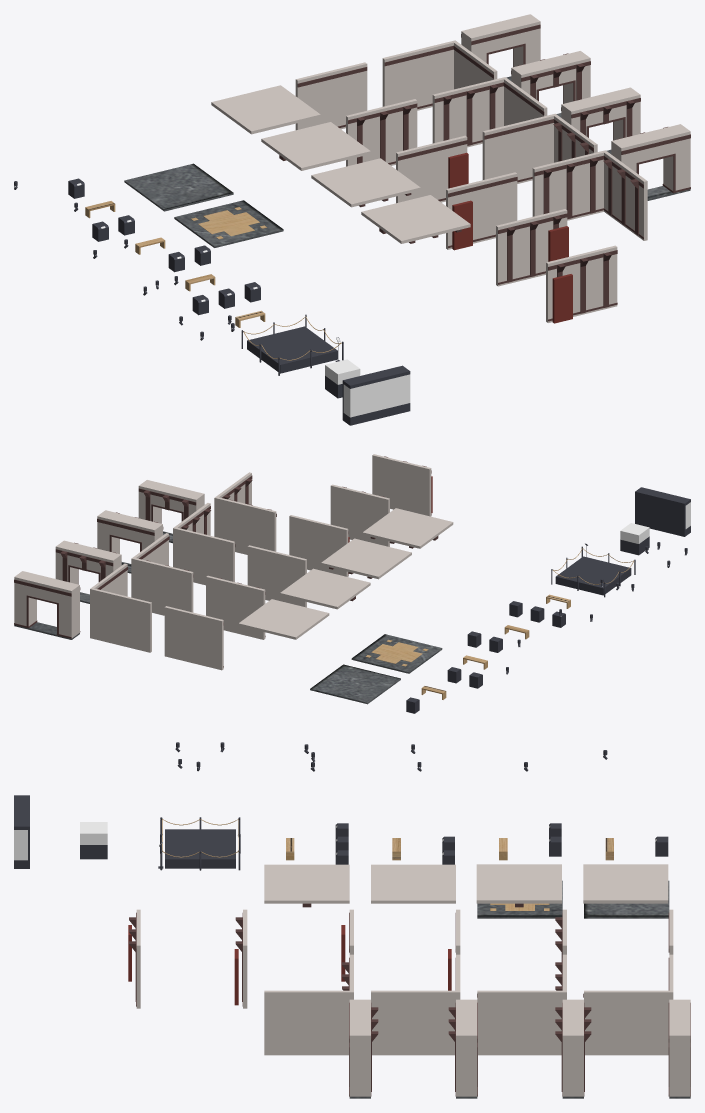
The model's file is all.glb.
The picture shows the model from 3 angles, top to bottom: view 1: azimuth 30°, elevation 25°; view 2: azimuth 150°, elevation 25°; view 3: azimuth 270°, elevation 25°; orthographic projection. The views are drawn at different scales.
Visible parts, largest first — view 1: Corner.003, Corner.002, Corner.001, Corner.000, Wall.005, Wall.004, Wall.003, Door.003, Wall.000, Wall.002, Wall.001, Display.006 (+14 smaller); view 2: Corner.000, Corner.001, Corner.003, Corner.002, Door.000, Wall.000, Wall.005, Wall.001, Wall.002, Wall.004, Wall.003, Ceil.003 (+14 smaller); view 3: Corner.003, Corner.001, Corner.000, Corner.002, Ceil.003, Ceil.001, Ceil.000, Ceil.002, Display.004, Door.001, Door.002, Door.003 (+10 smaller).
Part boxes in pixels (x1,y1,x2,y2): Corner.003: (532,150,647,240); Corner.002: (482,113,597,183); Corner.001: (432,77,547,147); Corner.000: (382,40,497,110); Wall.005: (546,245,617,323); Wall.004: (496,209,568,286); Wall.003: (446,172,517,250); Door.003: (611,124,690,200); Wall.000: (295,62,367,130); Wall.002: (396,135,468,203); Wall.001: (346,99,417,166); Display.006: (342,365,410,425); Corner.000: (90,563,151,652); Corner.001: (131,533,193,615); Corner.003: (214,472,276,554); Corner.002: (173,503,235,585); Door.000: (14,571,80,639); Wall.000: (164,606,223,670); Wall.005: (372,454,432,516); Wall.001: (206,575,265,639); Wall.002: (247,545,306,607); Wall.004: (330,484,389,546); Wall.003: (289,515,349,576); Ceil.003: (362,508,453,548); Corner.003: (264,954,353,1055); Corner.001: (477,954,566,1055); Corner.000: (583,954,673,1055); Corner.002: (371,954,460,1055); Ceil.003: (264,864,349,907); Ceil.001: (476,864,561,907); Ceil.000: (583,864,668,903); Ceil.002: (371,864,455,903); Display.004: (158,817,240,870); Door.001: (555,999,591,1098); Door.002: (448,999,477,1098); Door.003: (349,999,378,1098).
Size of the model in its own units: 32.94 by 3.27 by 31.77.
Materials: 10 (2 with a texture image).
